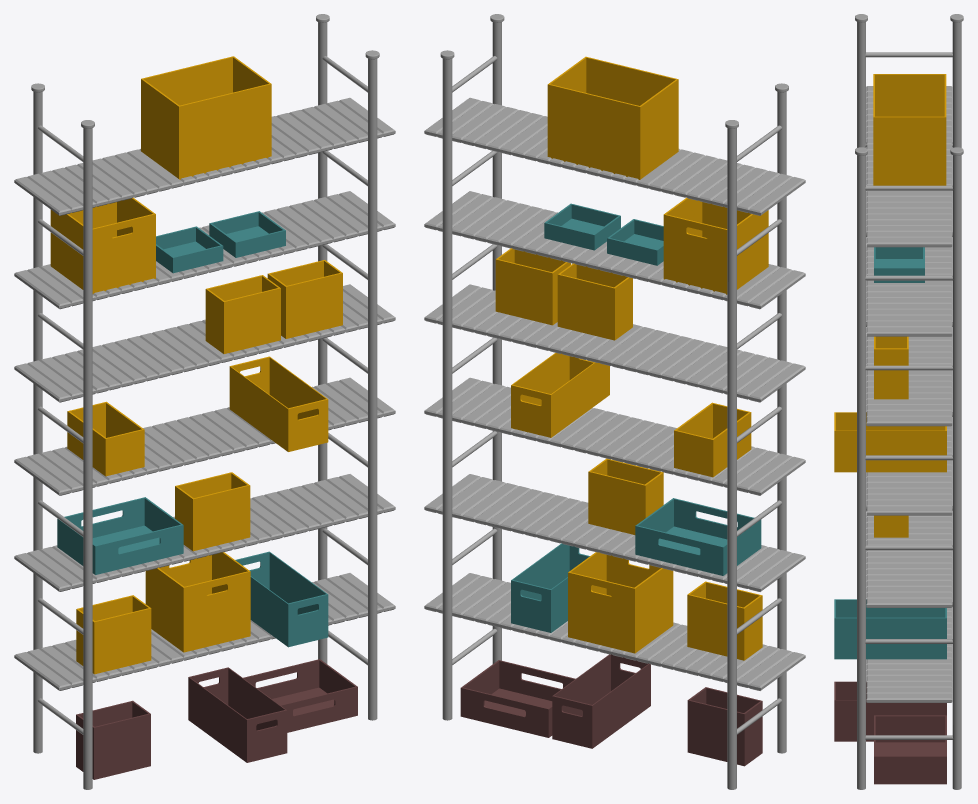
File: BoxShelves05.fbx
3 views of the same model, side by side, from view 1: azimuth 30°, elevation 25°; view 2: azimuth 150°, elevation 25°; view 3: azimuth 270°, elevation 25° (orthographic). The views are drawn at different scales.
Visible parts, largest first — view 1: BoxShelves05; view 2: BoxShelves05; view 3: BoxShelves05.
Part boxes in pixels (box(x1,y1,x2,y2)): BoxShelves05: box(14, 14, 395, 789); BoxShelves05: box(424, 14, 805, 789); BoxShelves05: box(834, 14, 963, 789).
Size of the model in its own units: 115 by 217 by 39.89.
